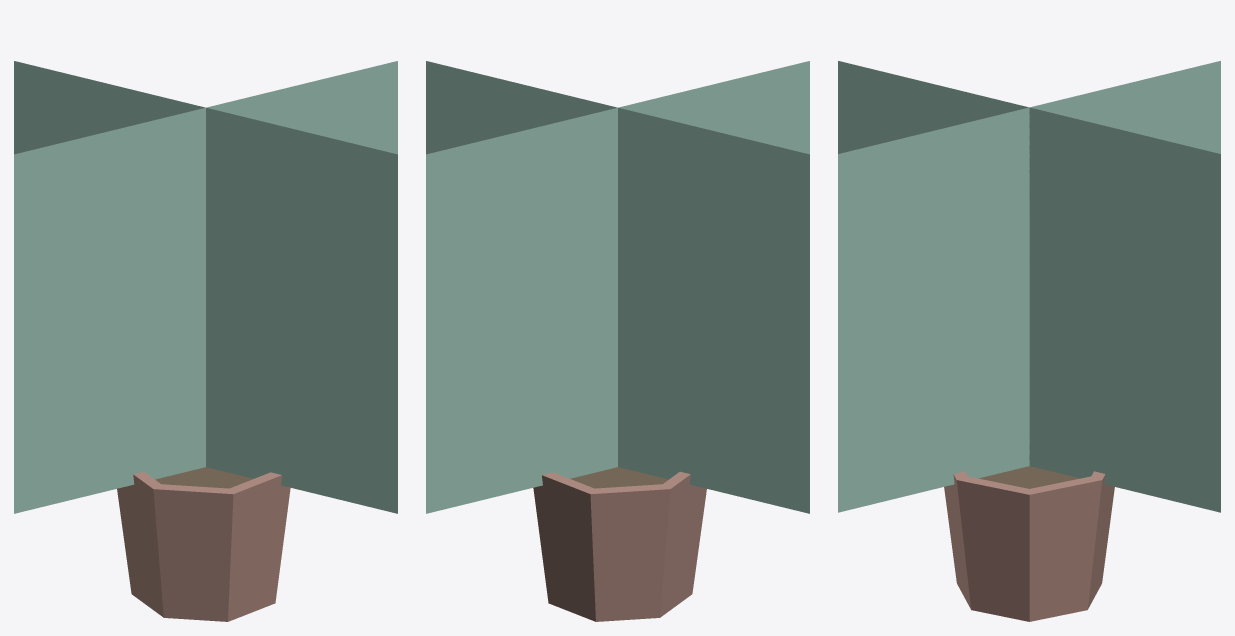
File: potted_plant_fake.glb
The picture shows the model from 3 angles, left to right: view 1: azimuth 30°, elevation 25°; view 2: azimuth 150°, elevation 25°; view 3: azimuth 270°, elevation 25°; orthographic projection.
Visible parts, largest first — view 1: Plant_fake; view 2: Plant_fake; view 3: Plant_fake.
Part boxes in pixels (bbox=[...]): Plant_fake: bbox=[14, 61, 397, 621]; Plant_fake: bbox=[426, 61, 809, 621]; Plant_fake: bbox=[838, 61, 1220, 621].
Size of the model in its own units: 0.95 by 1.14 by 0.8227.
